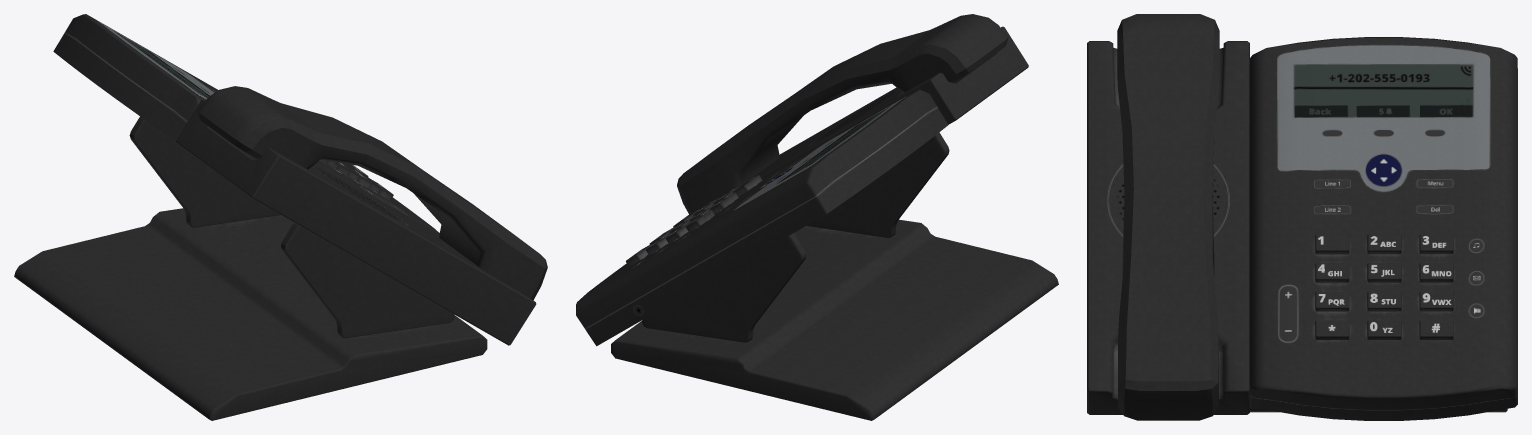
File: doctor telephone.fbx
3 views of the same model, side by side, from view 1: azimuth 30°, elevation 25°; view 2: azimuth 150°, elevation 25°; view 3: azimuth 270°, elevation 25° (orthographic). The views are drawn at different scales.
Parts seen in each view (by area): view 1: object_0.001, object_0.002; view 2: object_0.001, object_0.002; view 3: object_0.001, object_0.002.
Boxes of the visible parts, bbox=[...] form: object_0.001: bbox=[14, 14, 536, 420]; object_0.002: bbox=[197, 86, 547, 300]; object_0.001: bbox=[576, 26, 1058, 420]; object_0.002: bbox=[677, 14, 1008, 214]; object_0.001: bbox=[1087, 37, 1517, 420]; object_0.002: bbox=[1117, 14, 1219, 420].
Size of the model in its own units: 21.5 by 16.29 by 21.86.
Materials: 1 (1 with a texture image).
